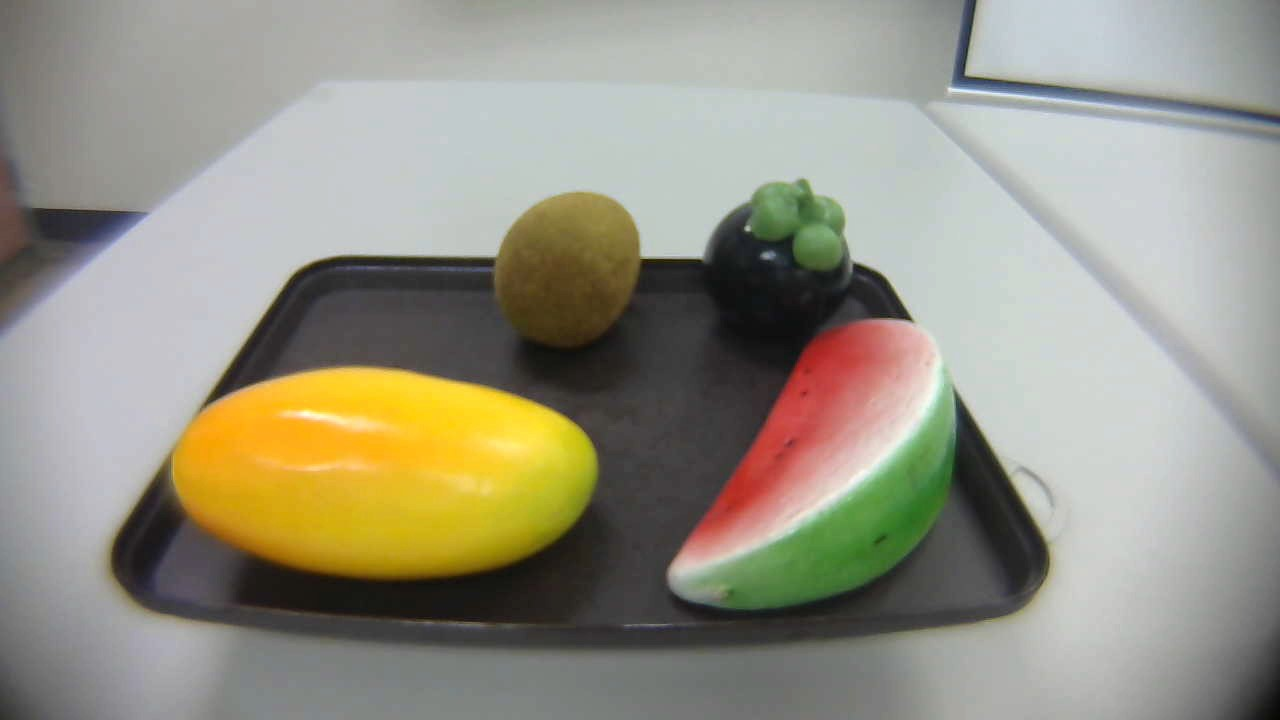kiwi fruit: (484, 186, 663, 363)
mangosteen: (702, 179, 865, 347)
water melon: (658, 314, 967, 611)
yellow mango: (153, 363, 613, 603)
